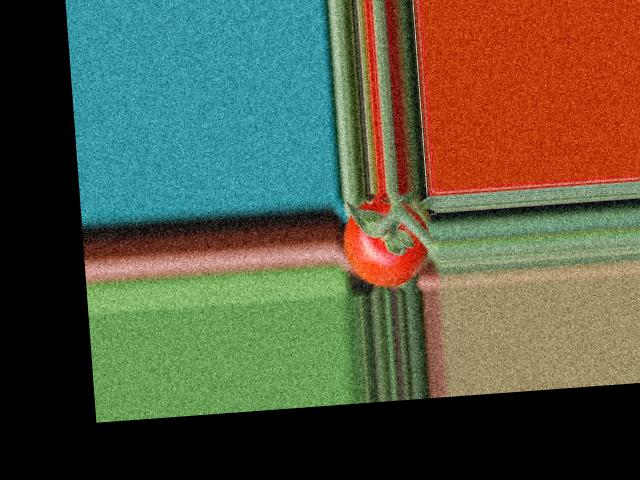tomato: (339, 191, 432, 289)
